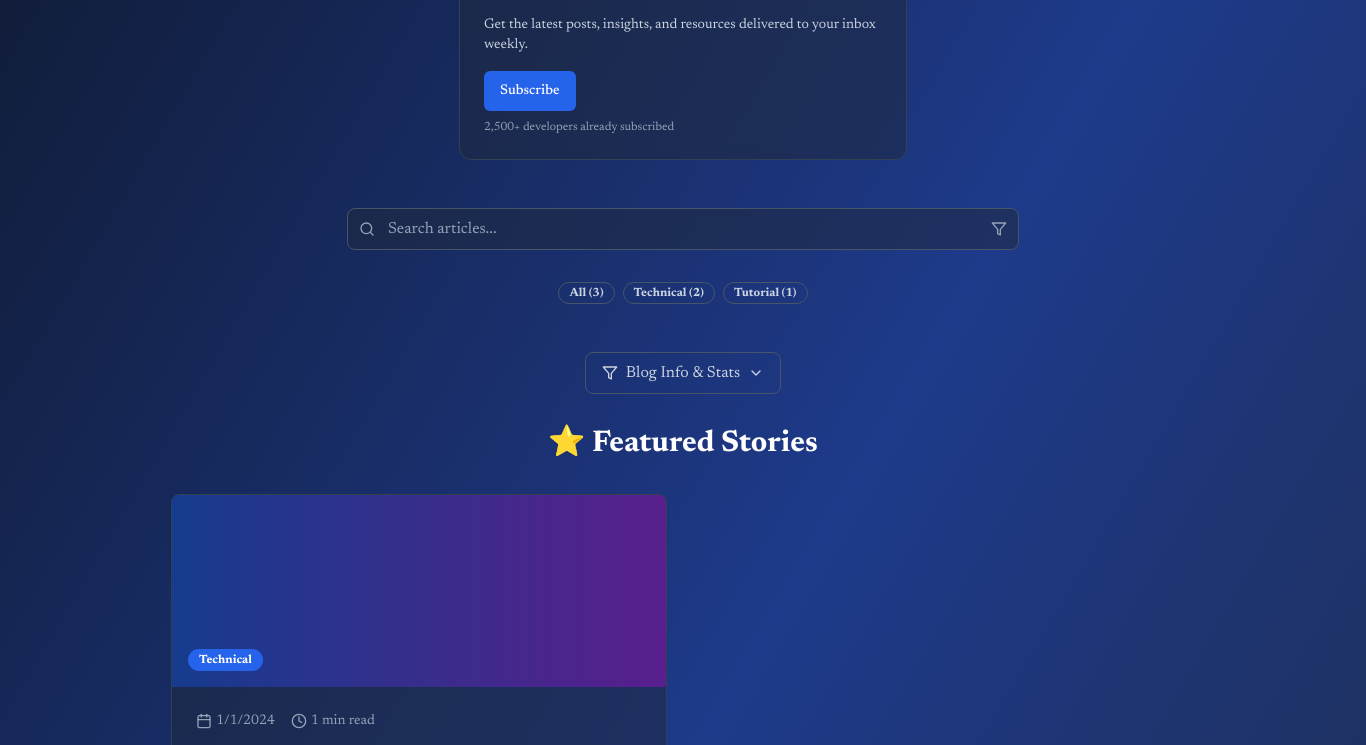
Test: Blog Page › displays popular tags
The width and height of the screenshot is (1366, 745).
(page scrolled)
Click the button "Blog Info & Stats".
click(683, 372)  # box left=585, top=352, right=781, bottom=394
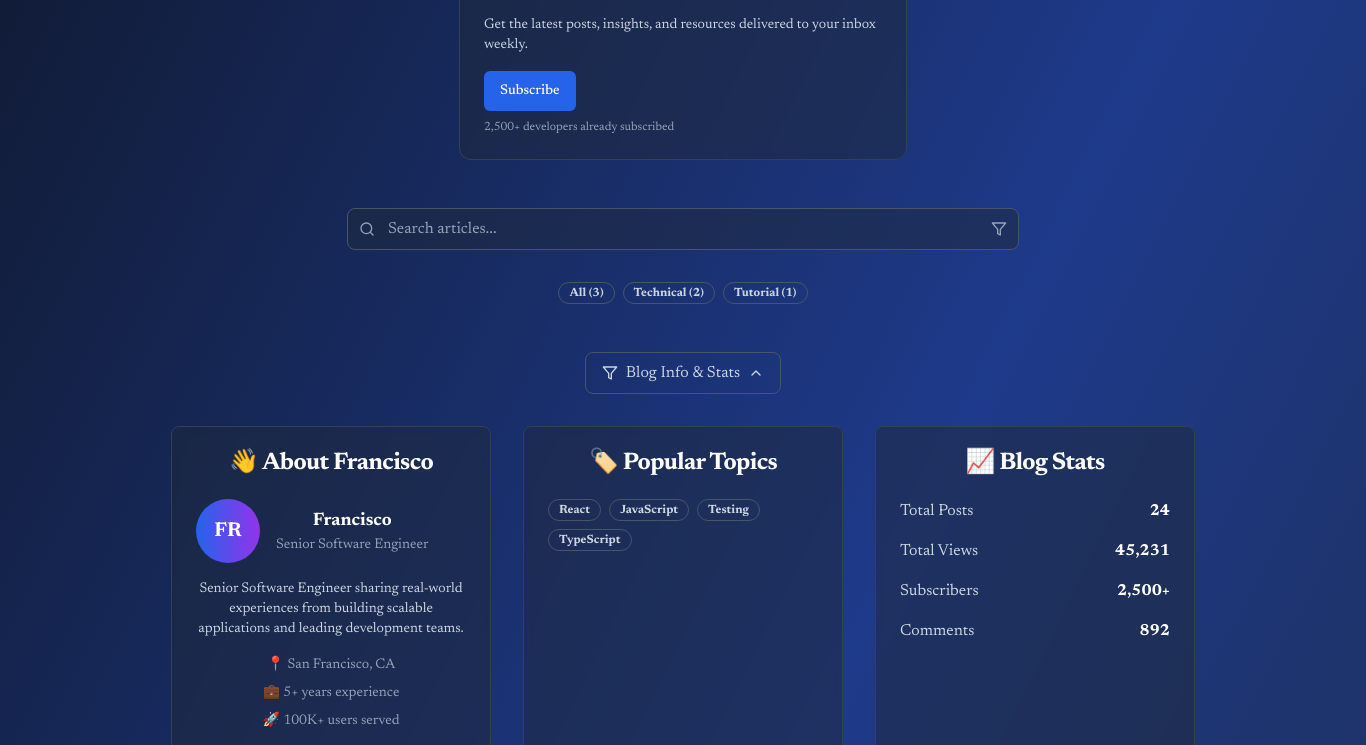
Now the text "React" is shown, box left=548, top=498, right=601, bottom=520
Now the text "JavaScript" is shown, box left=609, top=498, right=689, bottom=520
Now the text "Testing" is shown, box left=697, top=498, right=760, bottom=520
